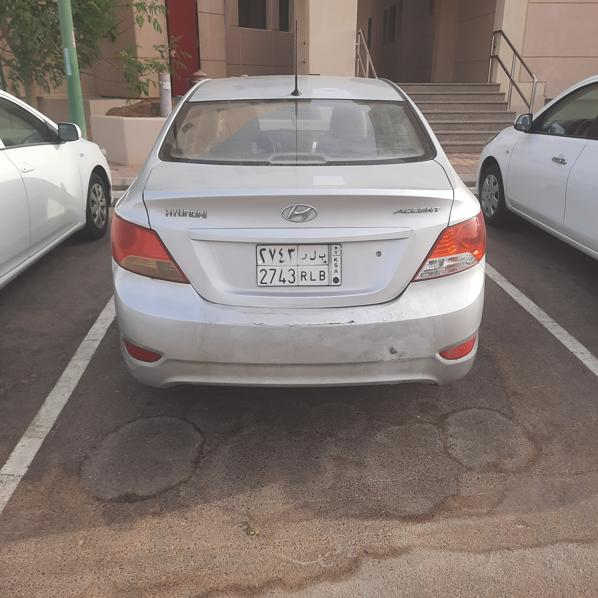numberplate: (257, 244, 342, 286)
